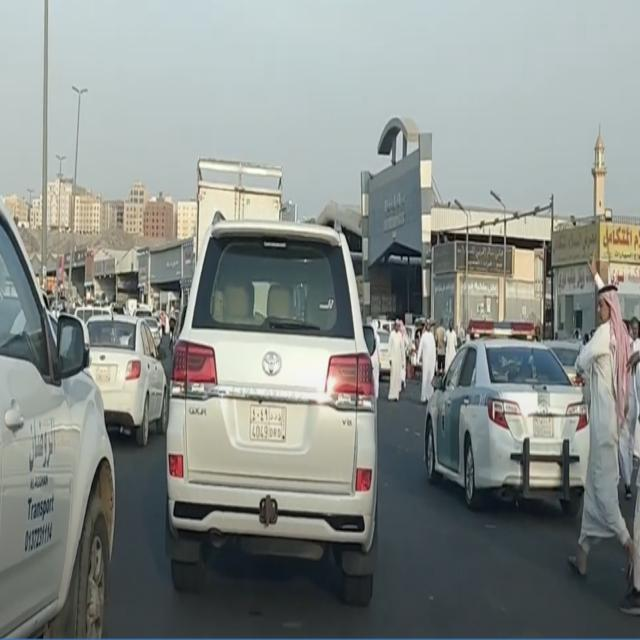license_plate: (248, 405, 286, 445), (532, 416, 554, 440), (95, 365, 110, 383)
